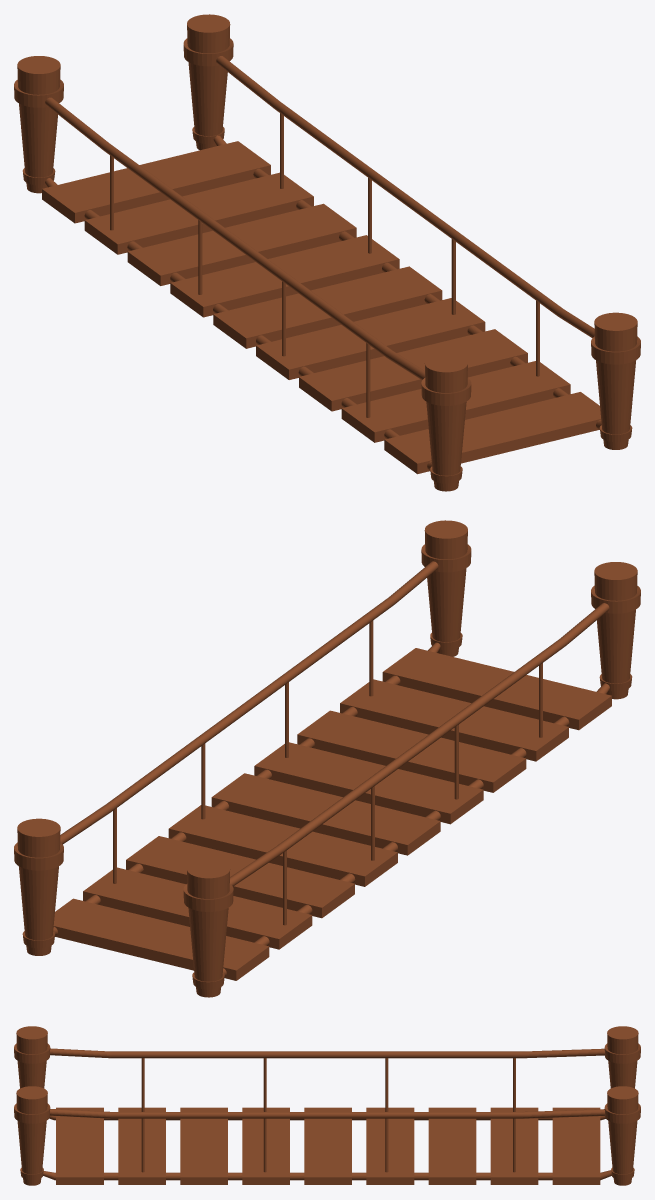
The model's file is Bridge.fbx.
3 renders of one model, top to bottom at view 1: azimuth 30°, elevation 25°; view 2: azimuth 150°, elevation 25°; view 3: azimuth 270°, elevation 25°, orthographic. The views are drawn at different scales.
Visible parts, largest first — view 1: Cube; view 2: Cube; view 3: Cube.
Part boxes in pixels (x1,y1,x2,y2): Cube: (14, 14, 640, 491); Cube: (14, 520, 640, 997); Cube: (14, 1026, 640, 1185).
Size of the model in its own units: 358 by 198 by 1261.
